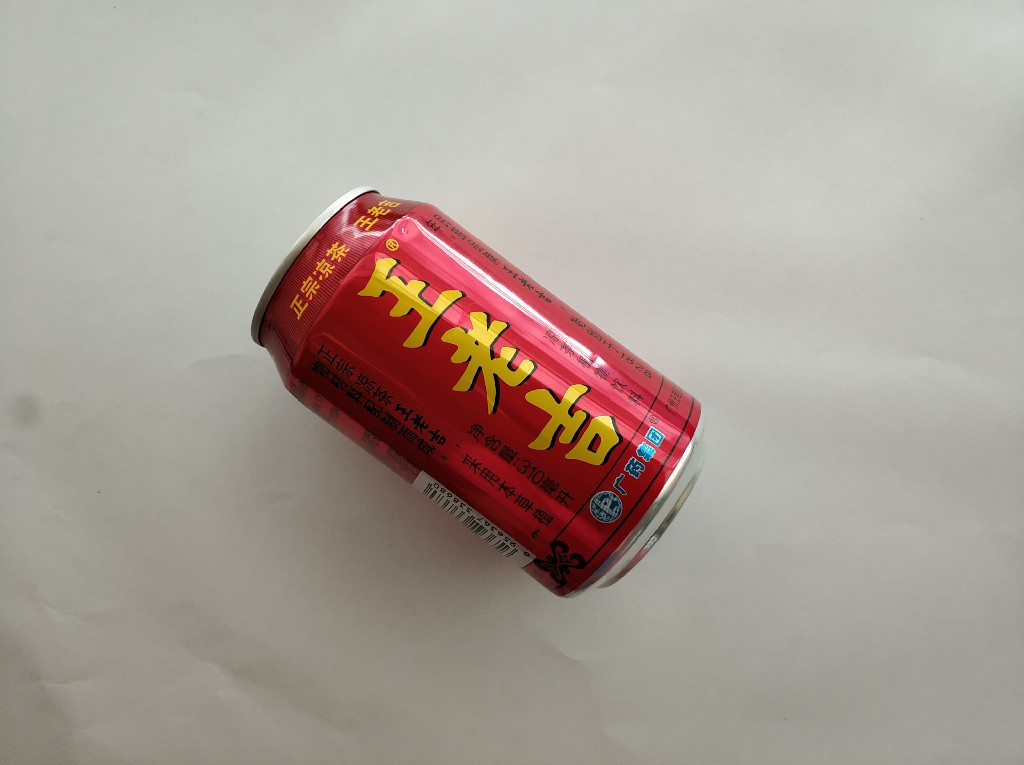can: (242, 182, 709, 606)
